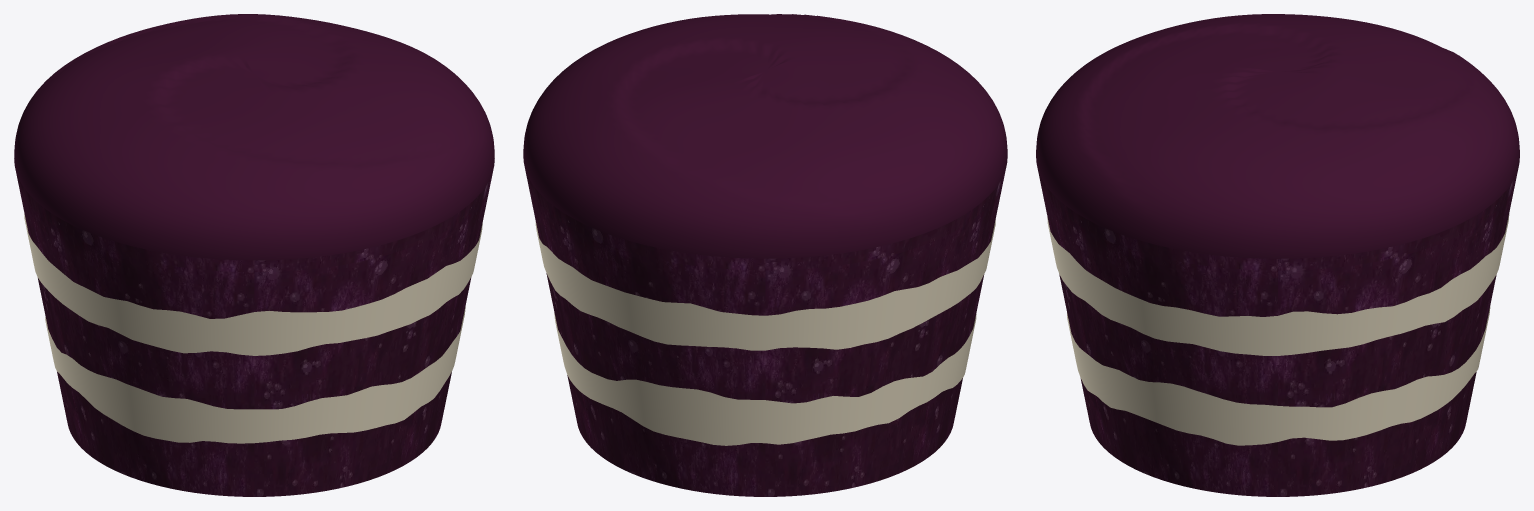
The model's file is base-acai-pote-250.glb.
3 renders of one model, left to right at view 1: azimuth 30°, elevation 25°; view 2: azimuth 150°, elevation 25°; view 3: azimuth 270°, elevation 25°, orthographic.
Parts seen in each view (by area): view 1: base-acai-pote-250, base-acai-pote-250-camada-2, base-acai-pote-250-camada-1; view 2: base-acai-pote-250, base-acai-pote-250-camada-2, base-acai-pote-250-camada-1; view 3: base-acai-pote-250, base-acai-pote-250-camada-2, base-acai-pote-250-camada-1.
Boxes of the visible parts, x1,y1,x2,y2 form: base-acai-pote-250: [14, 14, 494, 496]; base-acai-pote-250-camada-2: [24, 213, 482, 355]; base-acai-pote-250-camada-1: [45, 306, 465, 443]; base-acai-pote-250: [523, 14, 1007, 496]; base-acai-pote-250-camada-2: [535, 220, 995, 350]; base-acai-pote-250-camada-1: [554, 313, 976, 445]; base-acai-pote-250: [1036, 14, 1519, 496]; base-acai-pote-250-camada-2: [1047, 214, 1509, 355]; base-acai-pote-250-camada-1: [1067, 306, 1490, 445].
Bounding box in the file's own units: 0.0846 × 0.0672 × 0.0846.
Materials: 3 (1 with a texture image).
